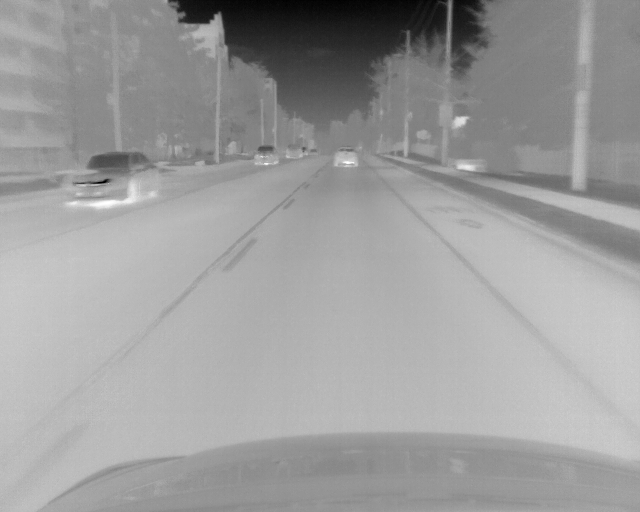car: (60, 150, 163, 207), (334, 146, 359, 169), (253, 145, 278, 167), (285, 143, 304, 159), (308, 147, 318, 157)
